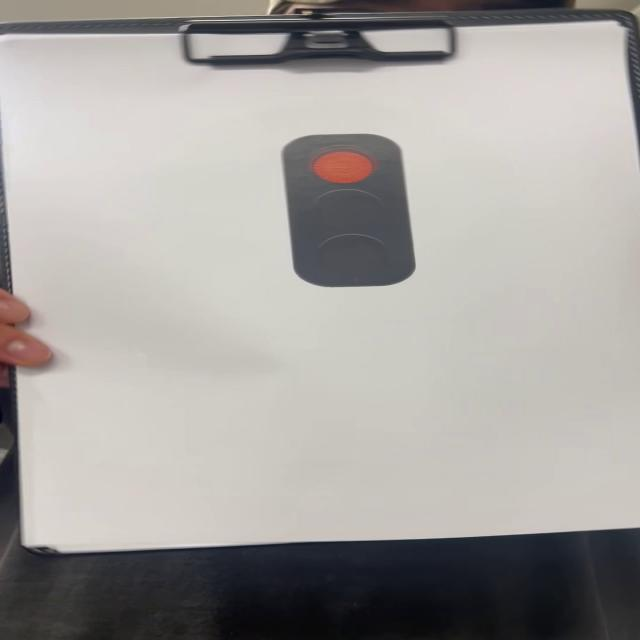red: (275, 134, 415, 288)
